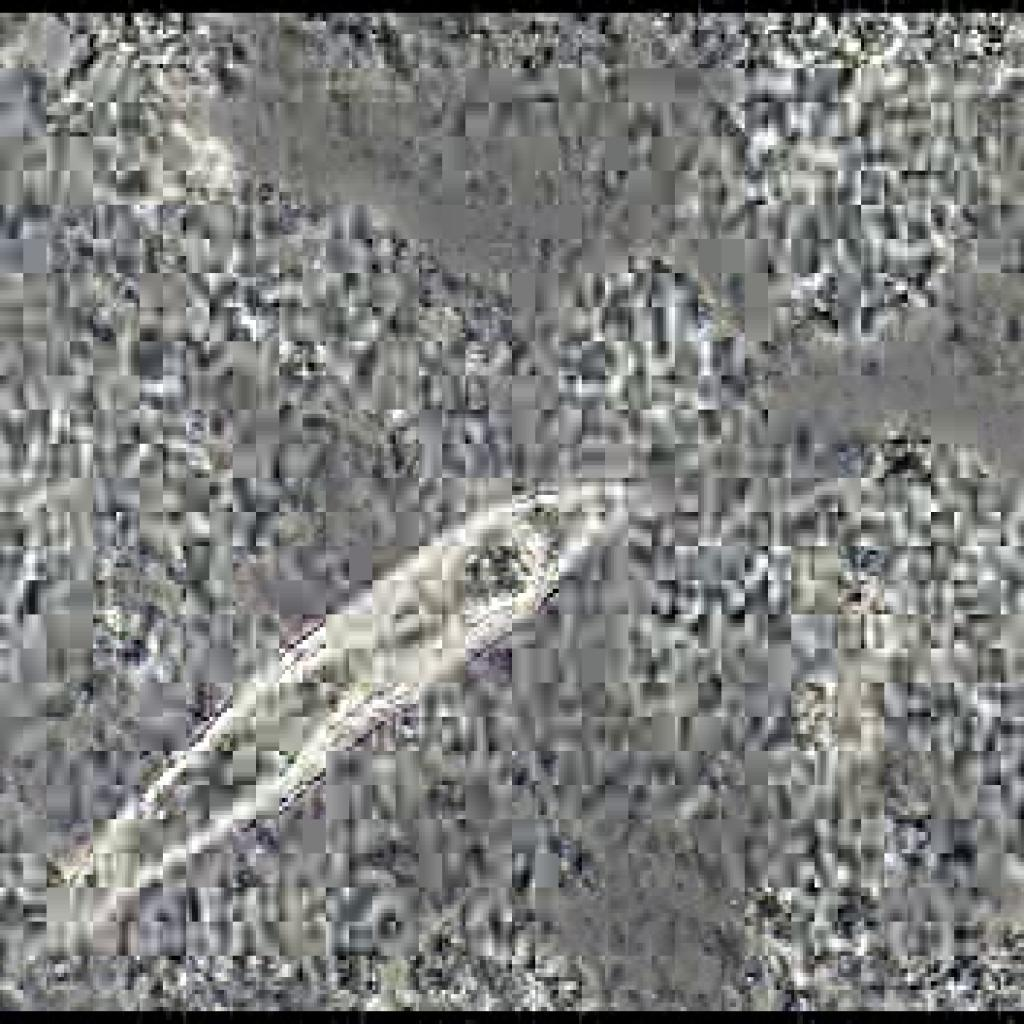Rotatoria: (2, 418, 636, 981)
